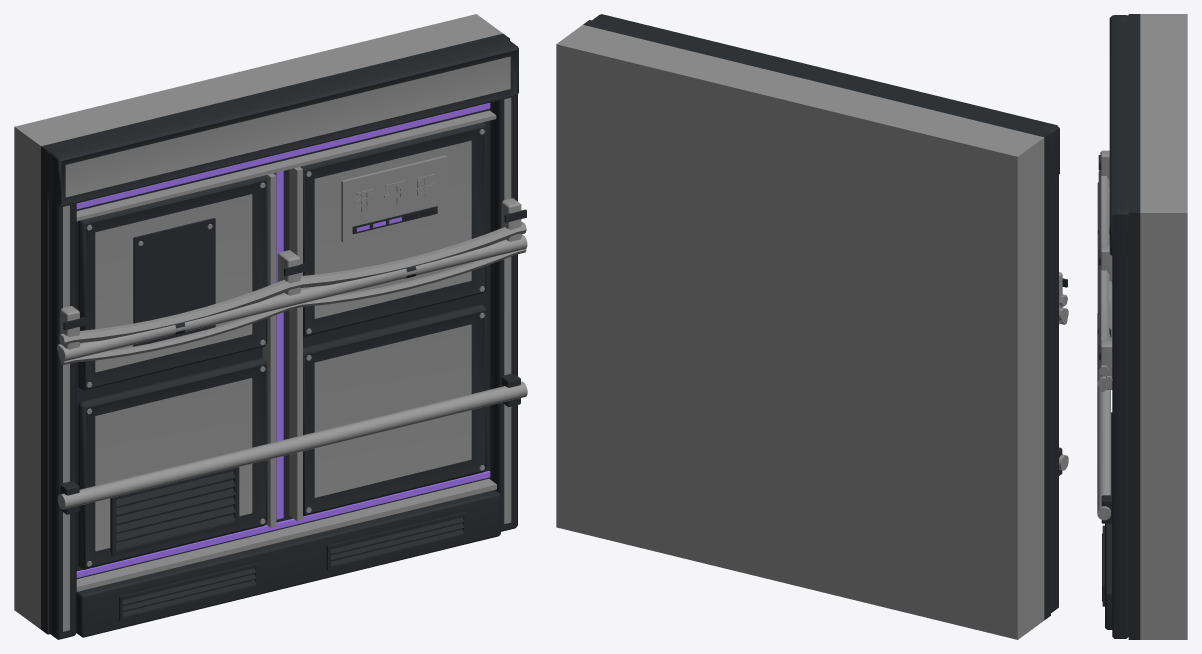
File: Vault_Wall_Panel_4m.fbx
The picture shows the model from 3 angles, left to right: view 1: azimuth 30°, elevation 25°; view 2: azimuth 150°, elevation 25°; view 3: azimuth 270°, elevation 25°; orthographic projection. The views are drawn at different scales.
Visible parts, largest first — view 1: Vault_Wall_Panel_4m_LOD0; view 2: Vault_Wall_Panel_4m_LOD0; view 3: Vault_Wall_Panel_4m_LOD0.
Part boxes in pixels (x1=…): Vault_Wall_Panel_4m_LOD0: x1=14, y1=14, x2=527, y2=639; Vault_Wall_Panel_4m_LOD0: x1=556, y1=14, x2=1068, y2=639; Vault_Wall_Panel_4m_LOD0: x1=1097, y1=14, x2=1187, y2=639.
Size of what is drawn, in the model's own units: 4 by 4 by 0.765.
